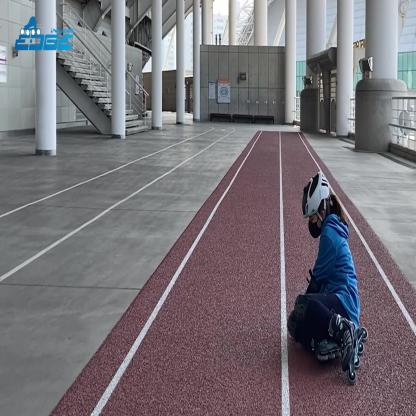Fall_Down: (286, 180, 362, 370)
